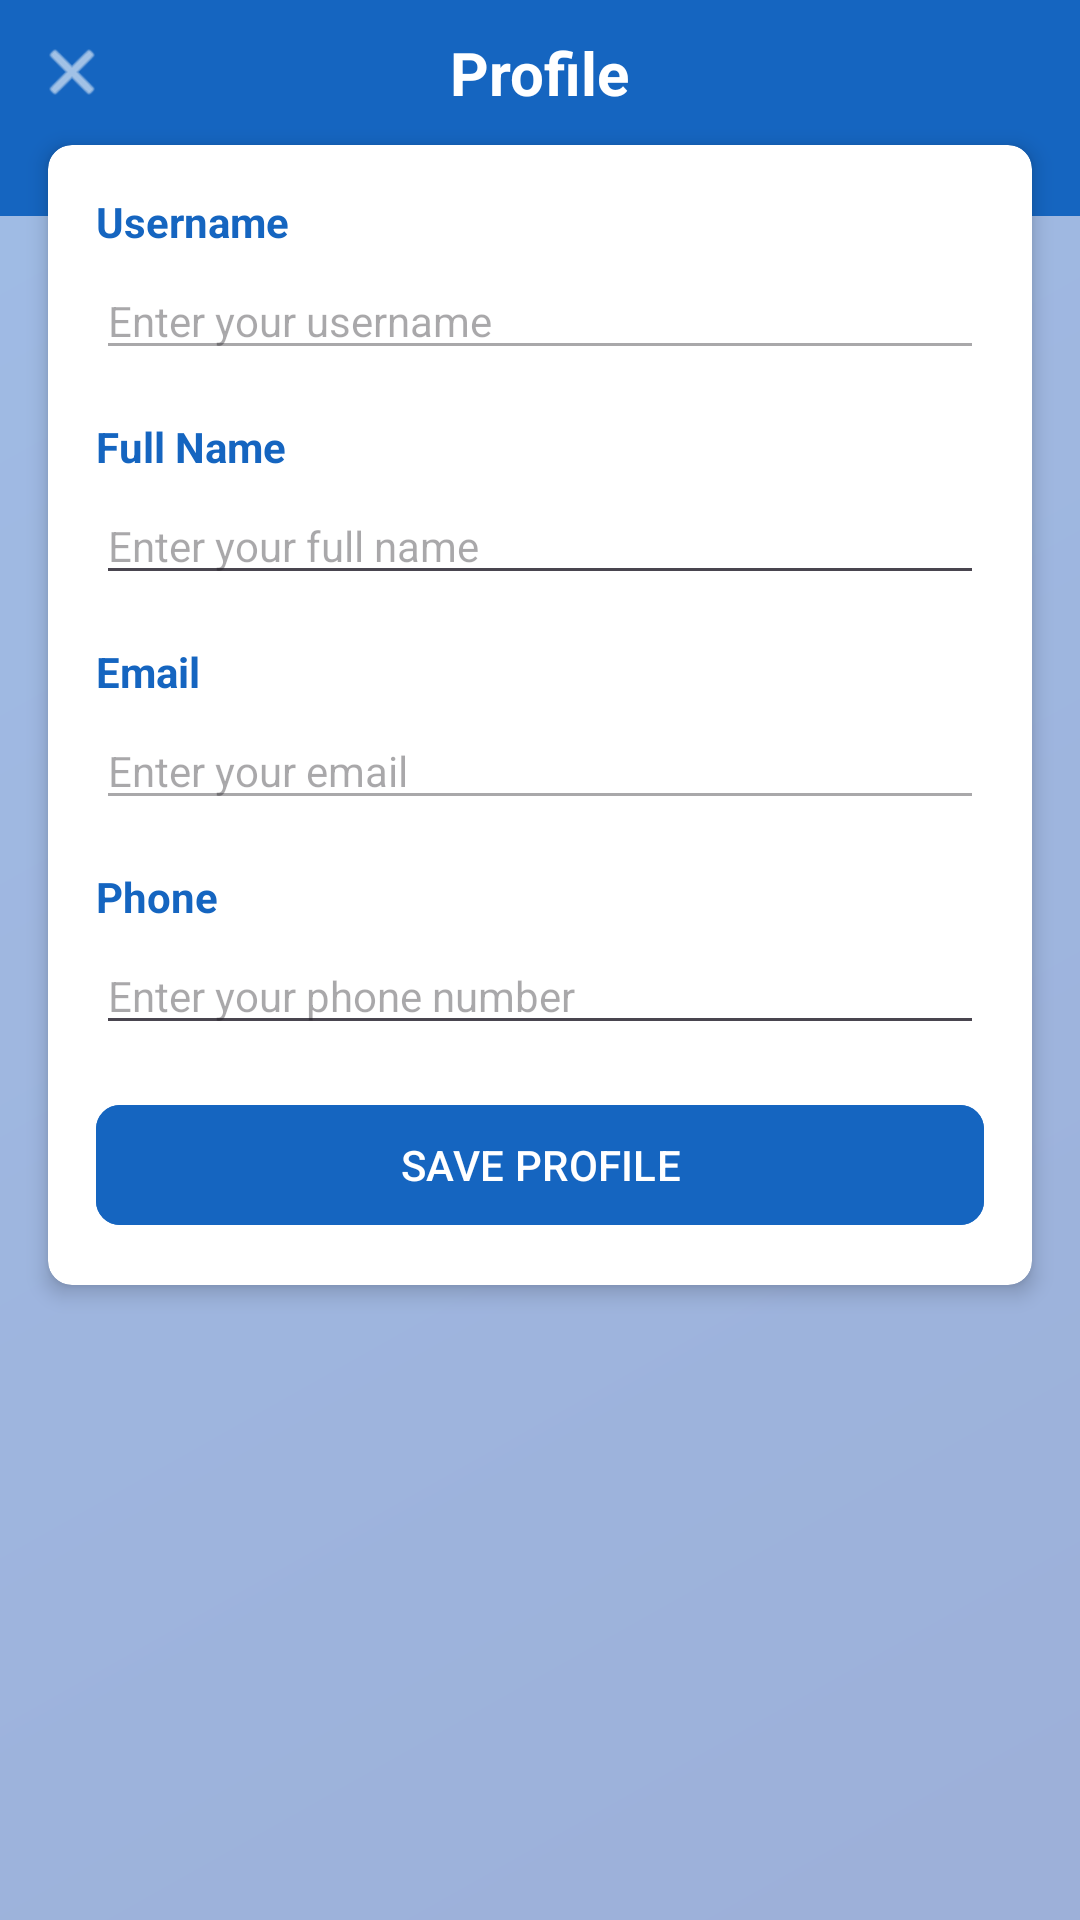

Where icons sit on this 1080 × 1920 app screen, as [x1=x1, y1=y1, x2=x2, y2=y2]:
close clear cancel: [x1=49, y1=49, x2=95, y2=95]
